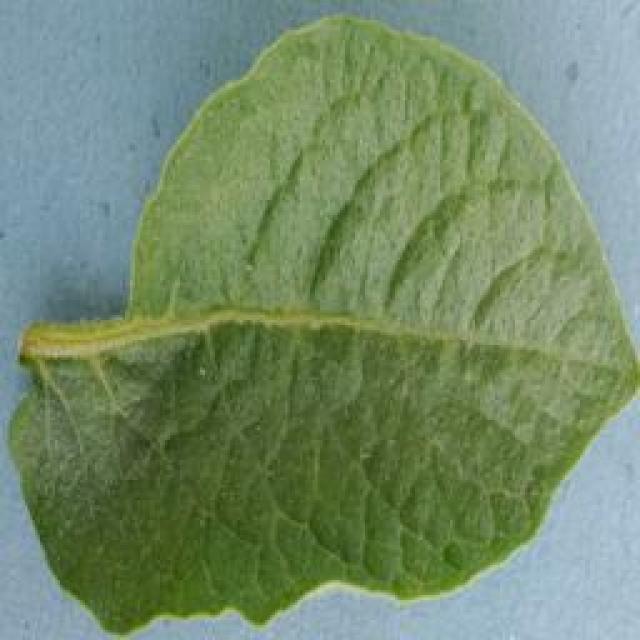Potato_Healthy: (0, 0, 628, 628)
